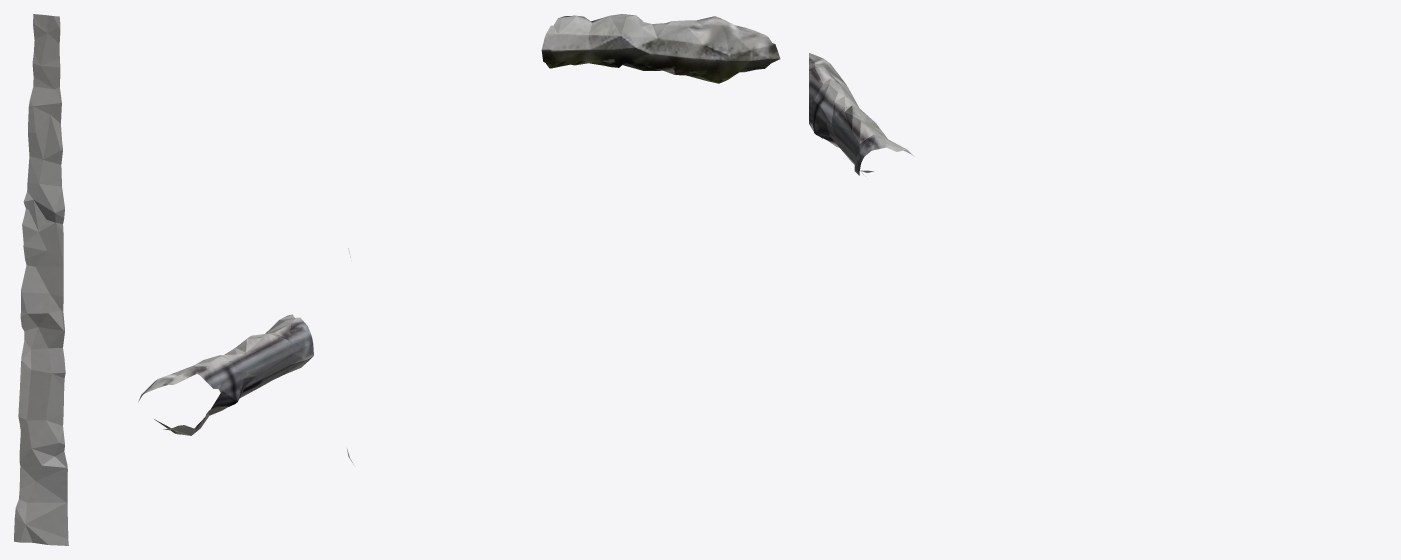
The picture shows the model from 3 angles, left to right: view 1: azimuth 30°, elevation 25°; view 2: azimuth 150°, elevation 25°; view 3: azimuth 270°, elevation 25°; orthographic projection. The views are drawn at different scales.
Bounding box in the file's own units: 0.3521 × 0.8373 × 0.8373.
Materials: 1 (1 with a texture image).
